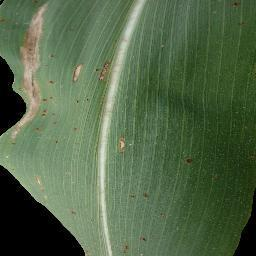Corn_Common_Rust: (0, 0, 53, 189), (38, 107, 79, 153), (128, 186, 176, 220), (103, 228, 148, 256), (110, 122, 129, 170), (61, 202, 91, 232), (221, 0, 256, 24), (95, 56, 117, 93), (69, 53, 87, 86), (178, 151, 215, 165), (58, 92, 93, 104), (116, 216, 122, 238)
